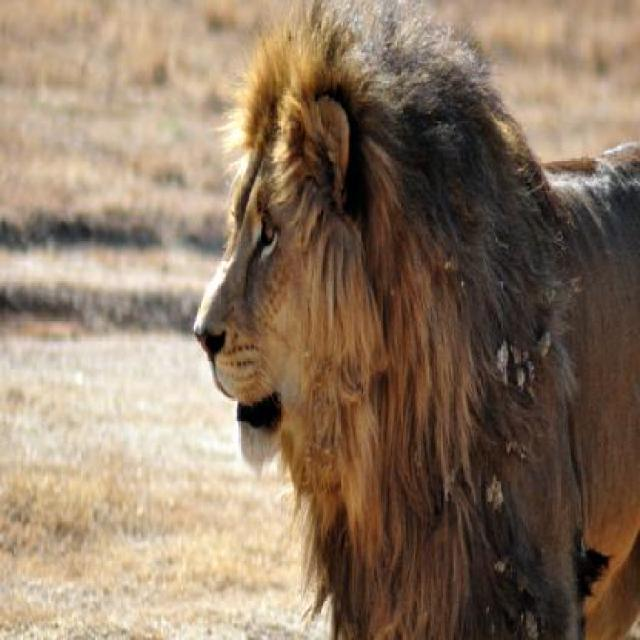Lion: (175, 12, 637, 638)
